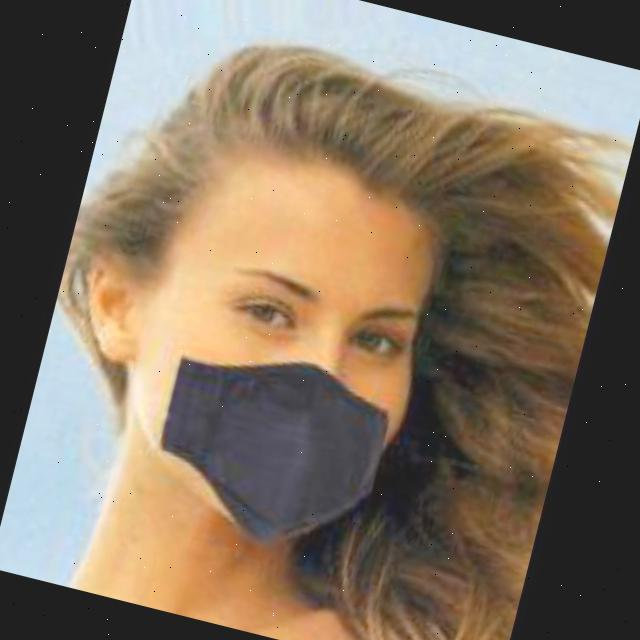suspicion: (54, 54, 540, 578)
